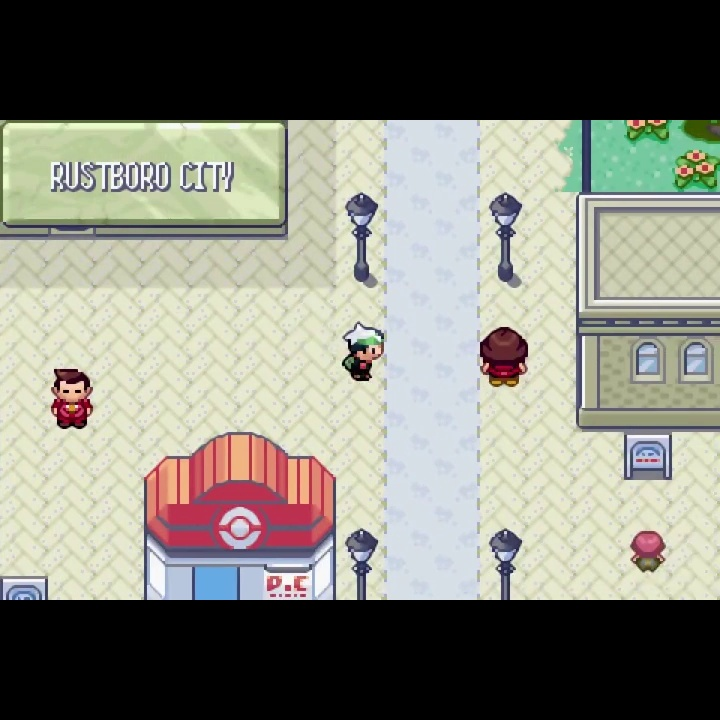agent: (338, 321, 385, 384)
house: (574, 191, 720, 431)
npc: (475, 324, 531, 391), (48, 366, 96, 432), (629, 529, 667, 577)
pokecen: (139, 430, 341, 600)
